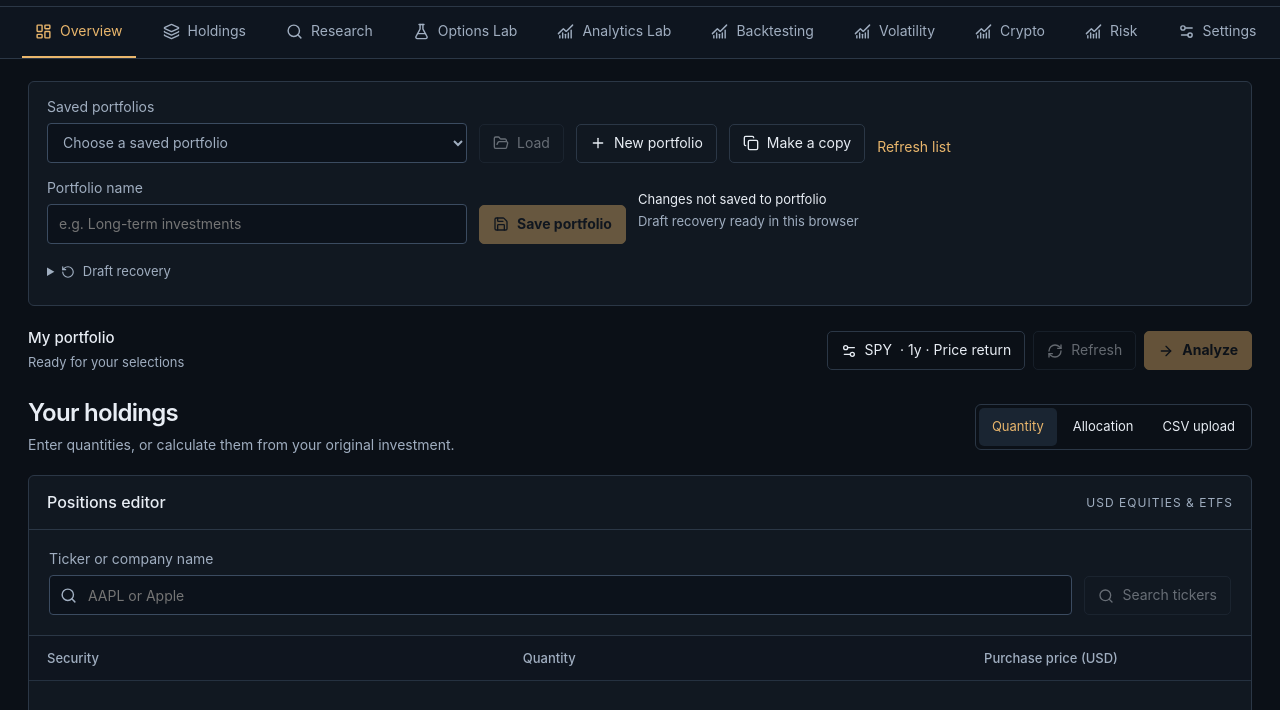
Test: Bond Analytics › shows a corporate benchmark/spread matrix and propagates currency
Click the tab "Analytics Lab" at {"x": 614, "y": 32}, box [544,7,684,58]
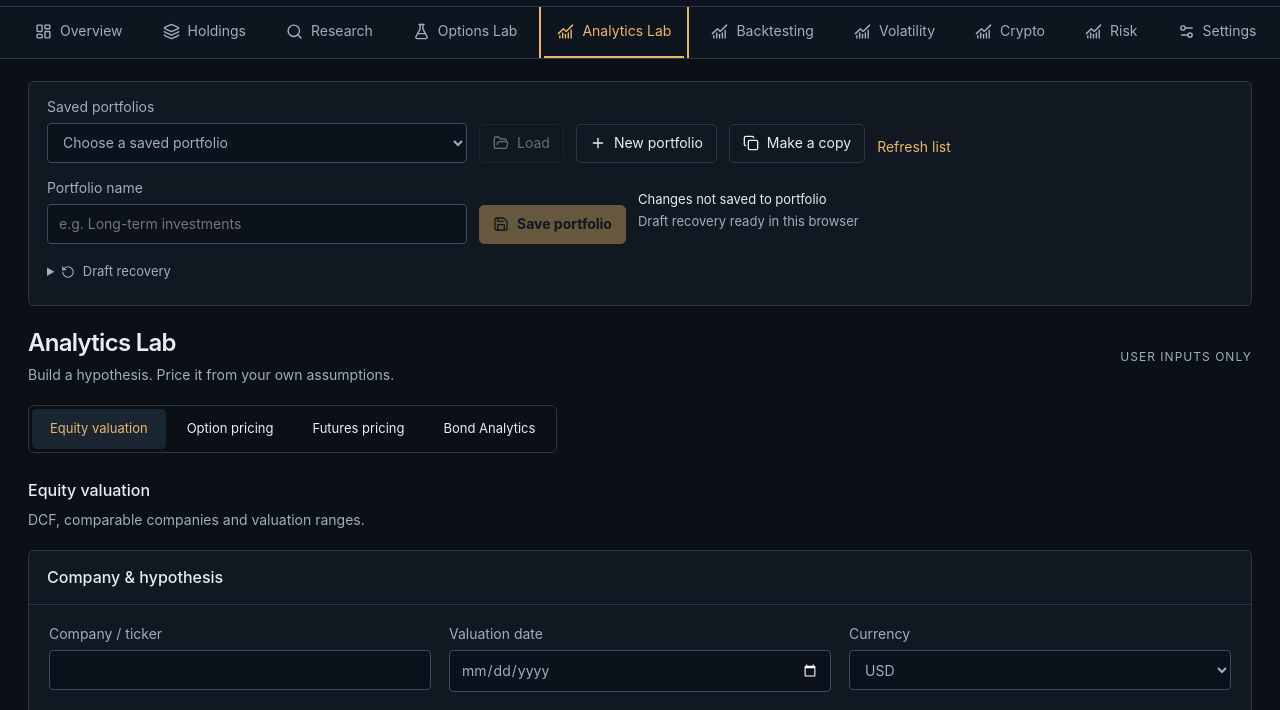
Click the button "Bond Analytics" at {"x": 489, "y": 429}, box [425,409,553,449]
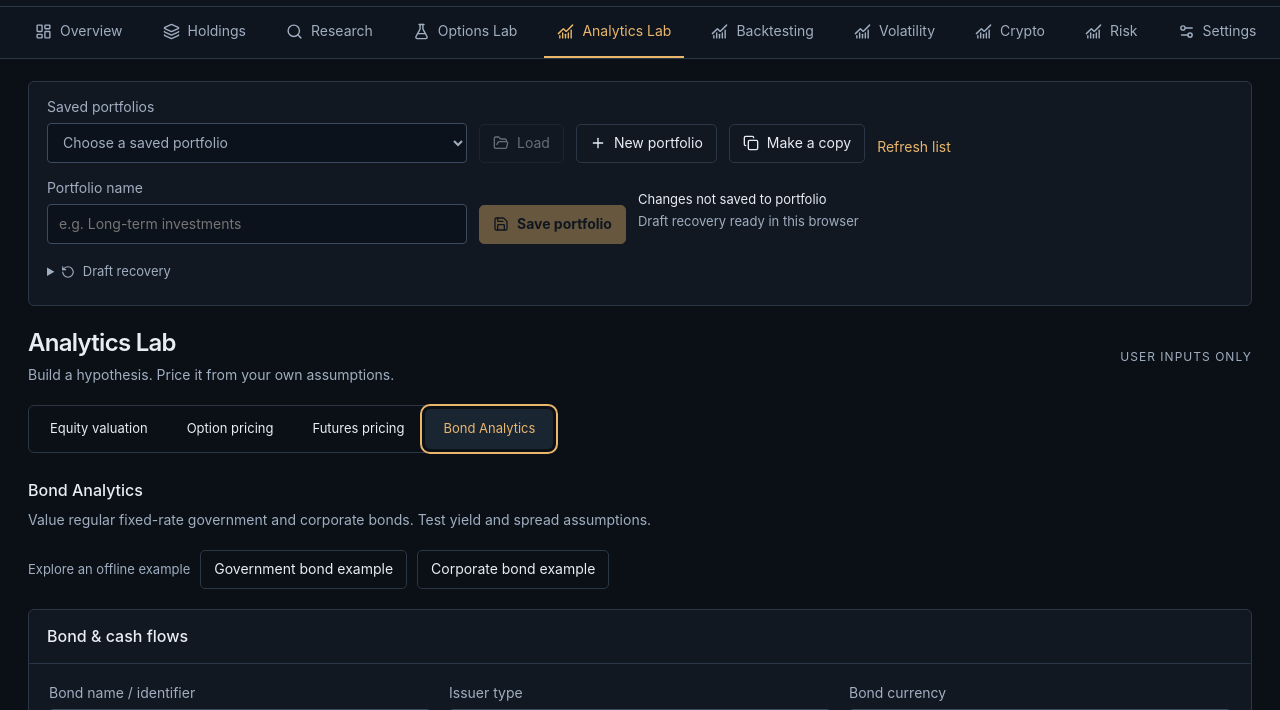
Click the button "Corporate bond example" at {"x": 513, "y": 570}, box [417,550,609,589]
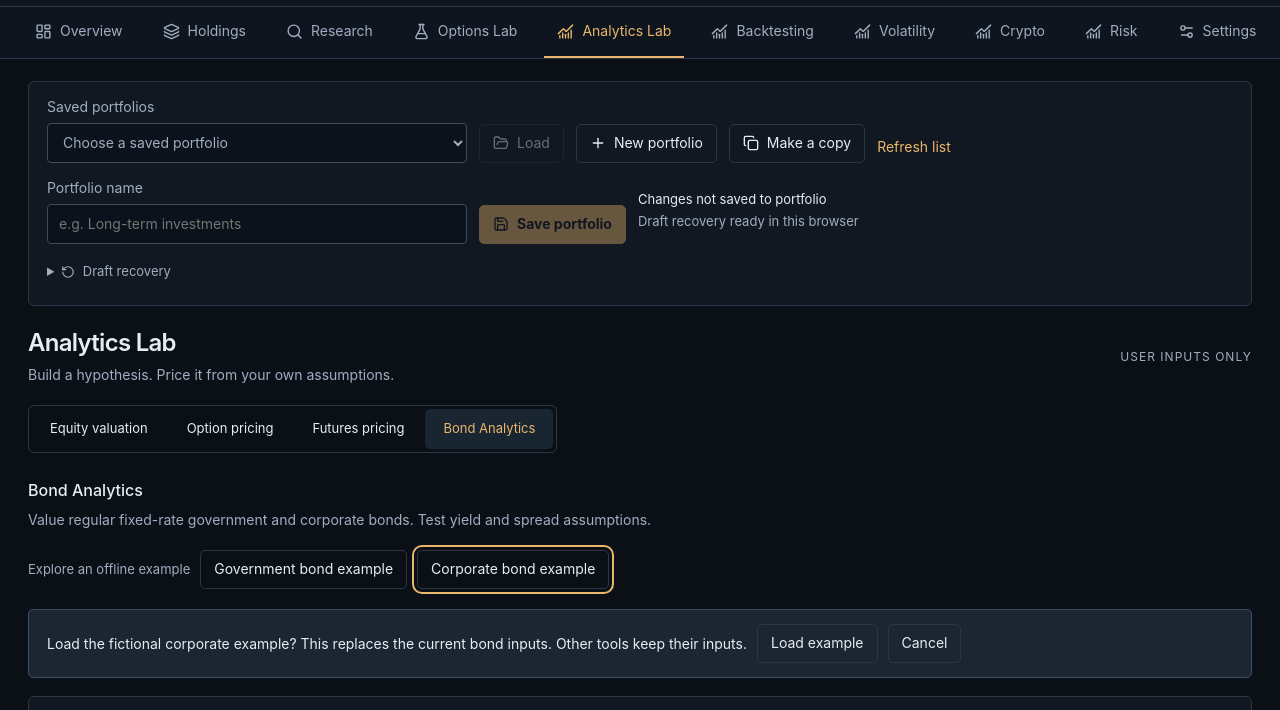
Click the button "Load example" at {"x": 817, "y": 643}, box [757,624,878,663]
(page scrolled)
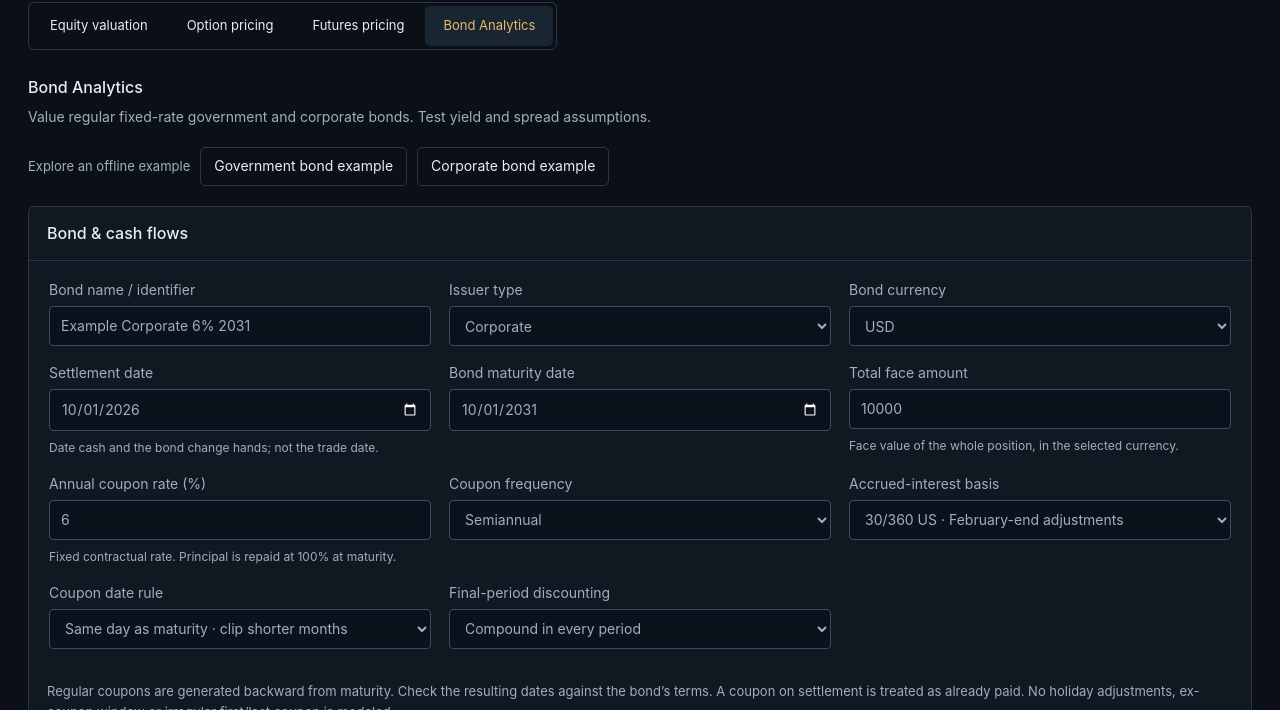
Select "GBP" in the dropdown labelled "Bond currency" at {"x": 1040, "y": 326}, box [849,306,1231,346]
(page scrolled)
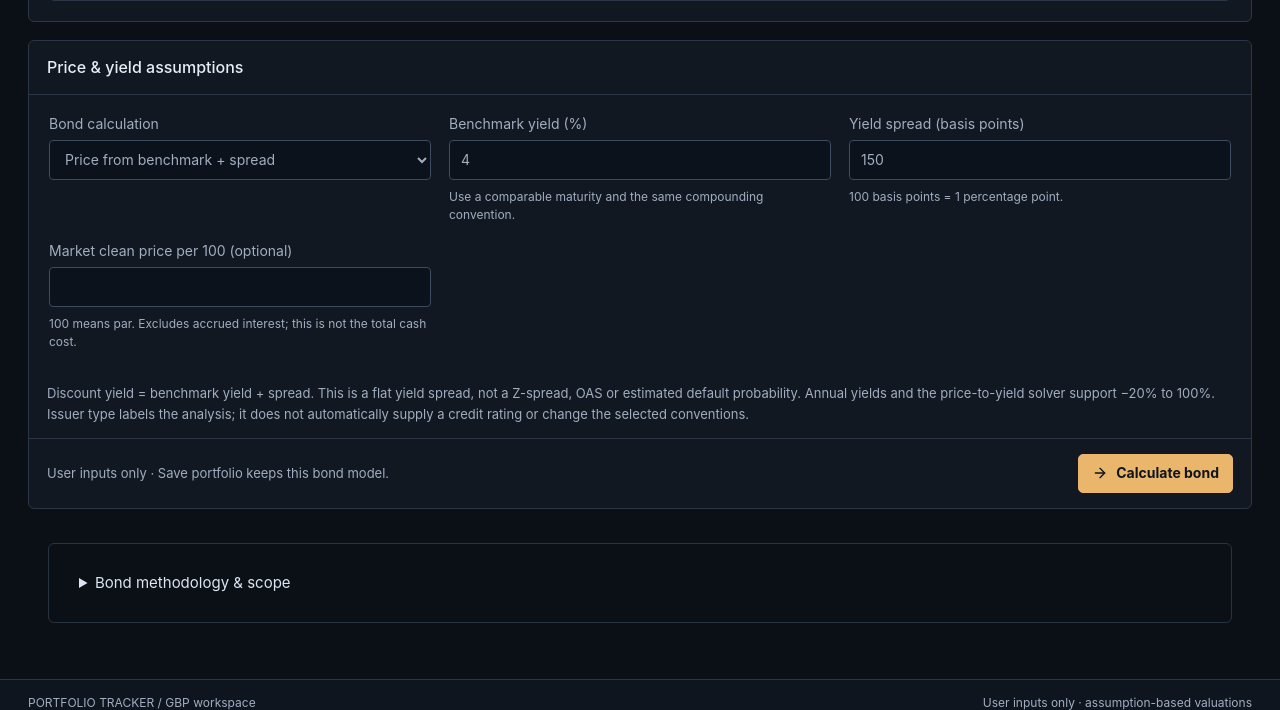
Click the button "Calculate bond" at {"x": 1156, "y": 473}, box [1078,454,1233,493]
(page scrolled)
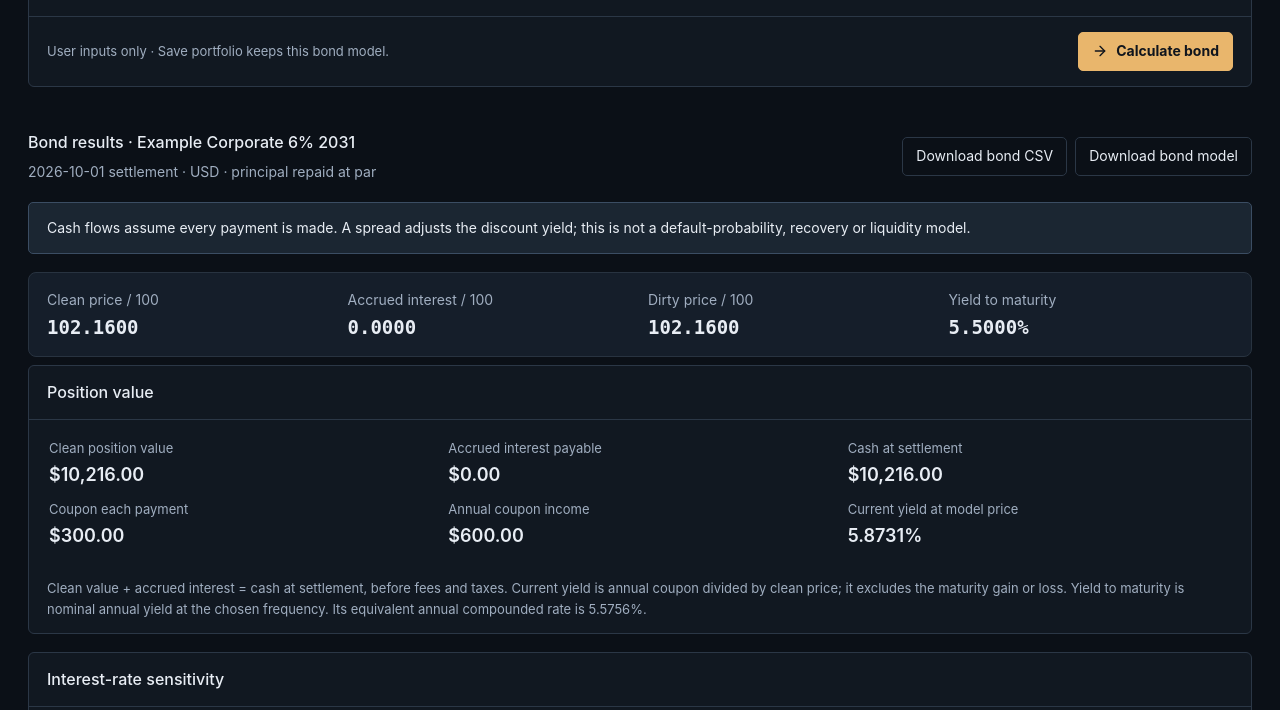
Now the text "5.5000%" is shown, box [948,316,1029,338]
